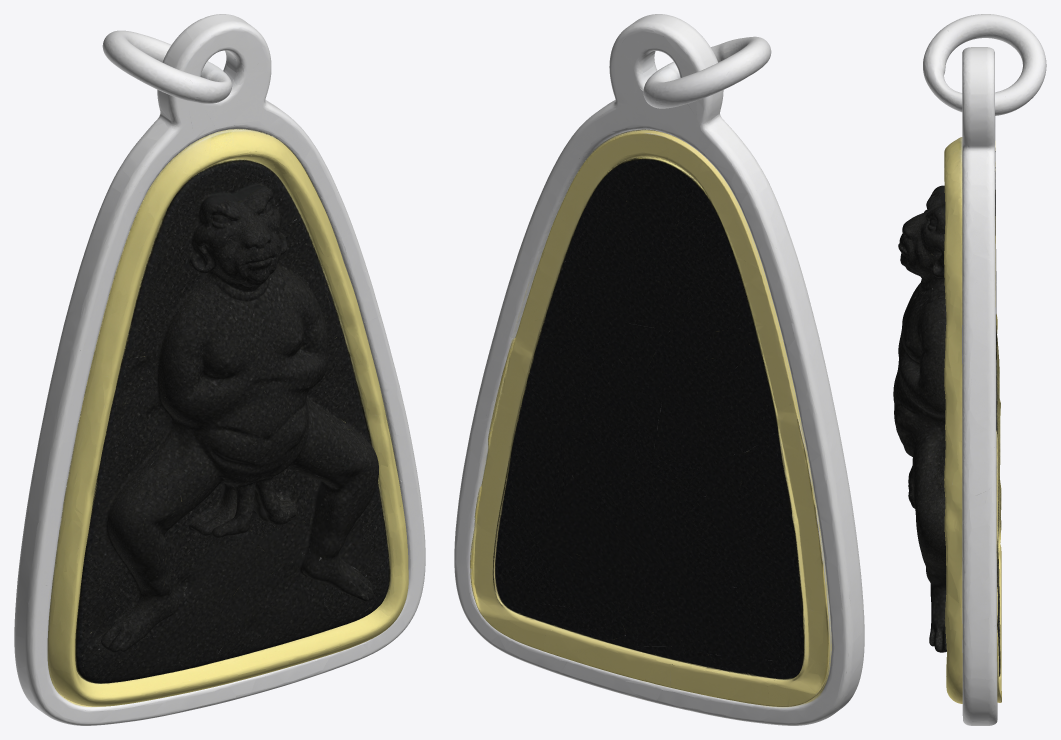
The model's file is original-praicase.glb.
3 views of the same model, side by side, from view 1: azimuth 30°, elevation 25°; view 2: azimuth 150°, elevation 25°; view 3: azimuth 270°, elevation 25° (orthographic). The views are drawn at different scales.
Parts seen in each view (by area): view 1: Mesh_0; view 2: Mesh_0; view 3: Mesh_0.
Boxes of the visible parts, x1,y1,x2,y2 form: Mesh_0: (14, 14, 425, 725); Mesh_0: (454, 14, 864, 725); Mesh_0: (893, 14, 1046, 725).
Size of the model in its own units: 1.17 by 1.9 by 0.4271.
1 material, 1 textured.
